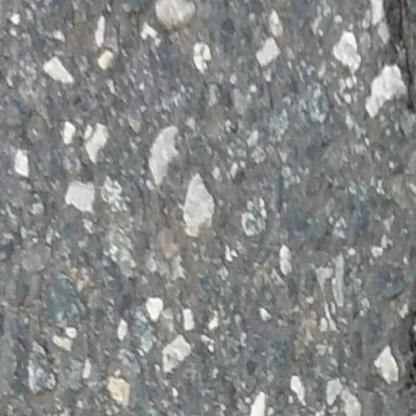Cracks: (383, 0, 416, 192), (406, 228, 416, 416)
